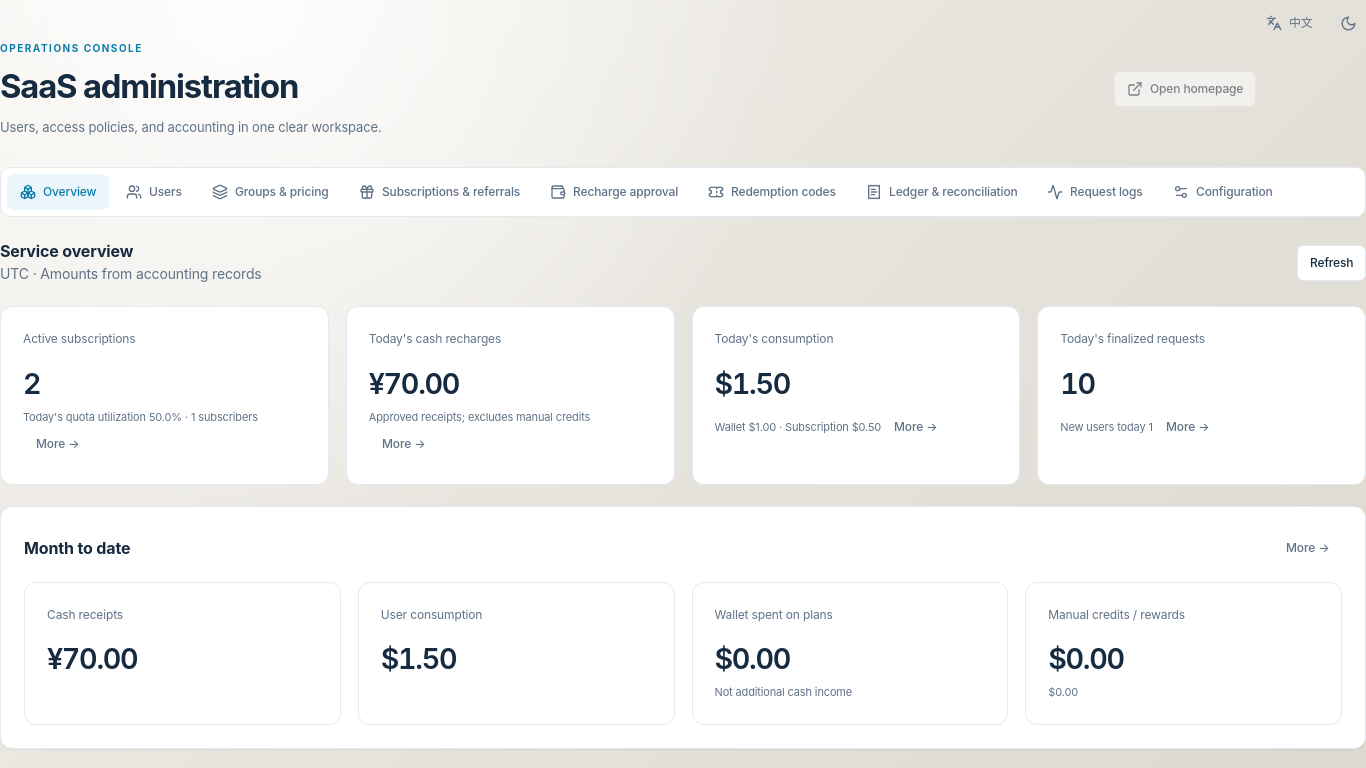
Test: SaaS administrator › opens subscription management for the selected user
What coordinates should you click on to do the following:
click the button "Users"
I would click on:
 (154, 192)
Its box is top-left (113, 174), bottom-right (195, 210).
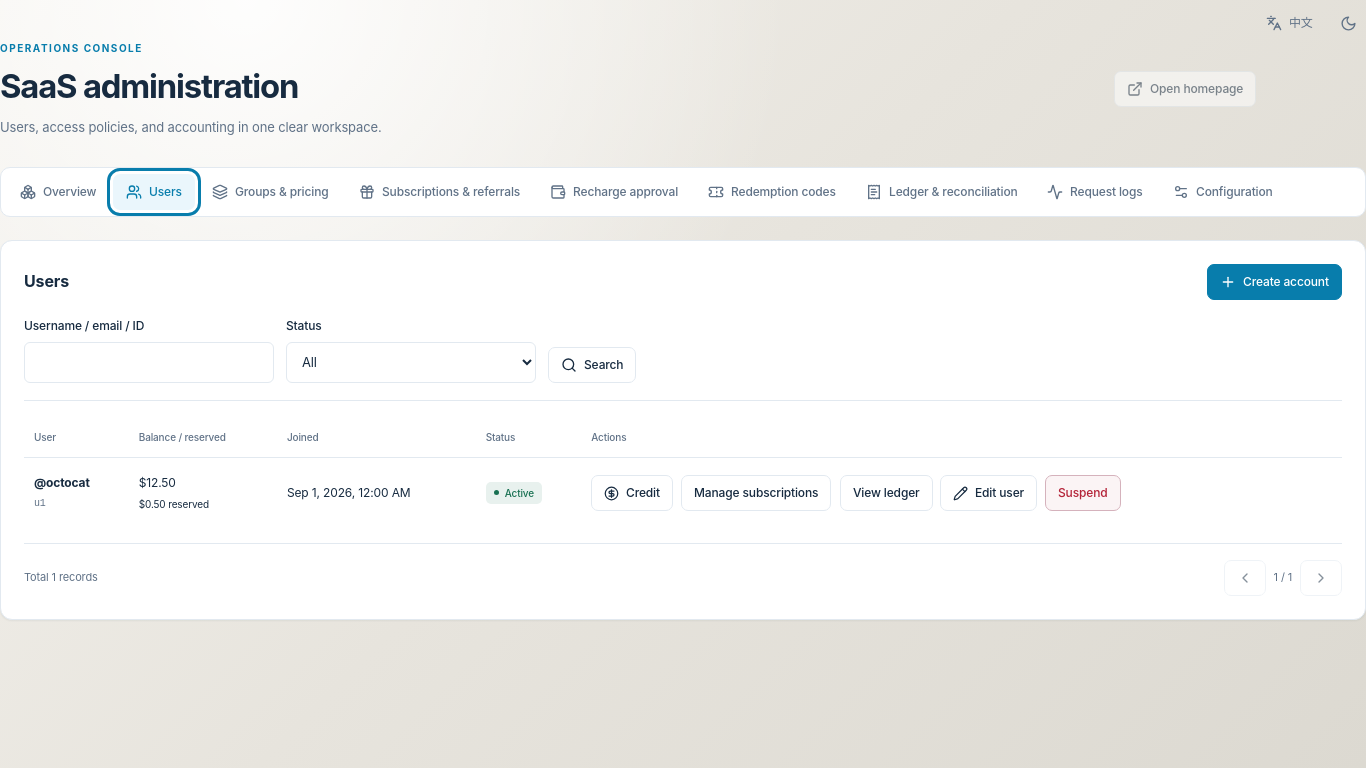
What coordinates should you click on to do the following:
click the button "Manage subscriptions"
I would click on:
 (756, 492)
Its box is top-left (681, 474), bottom-right (832, 510).
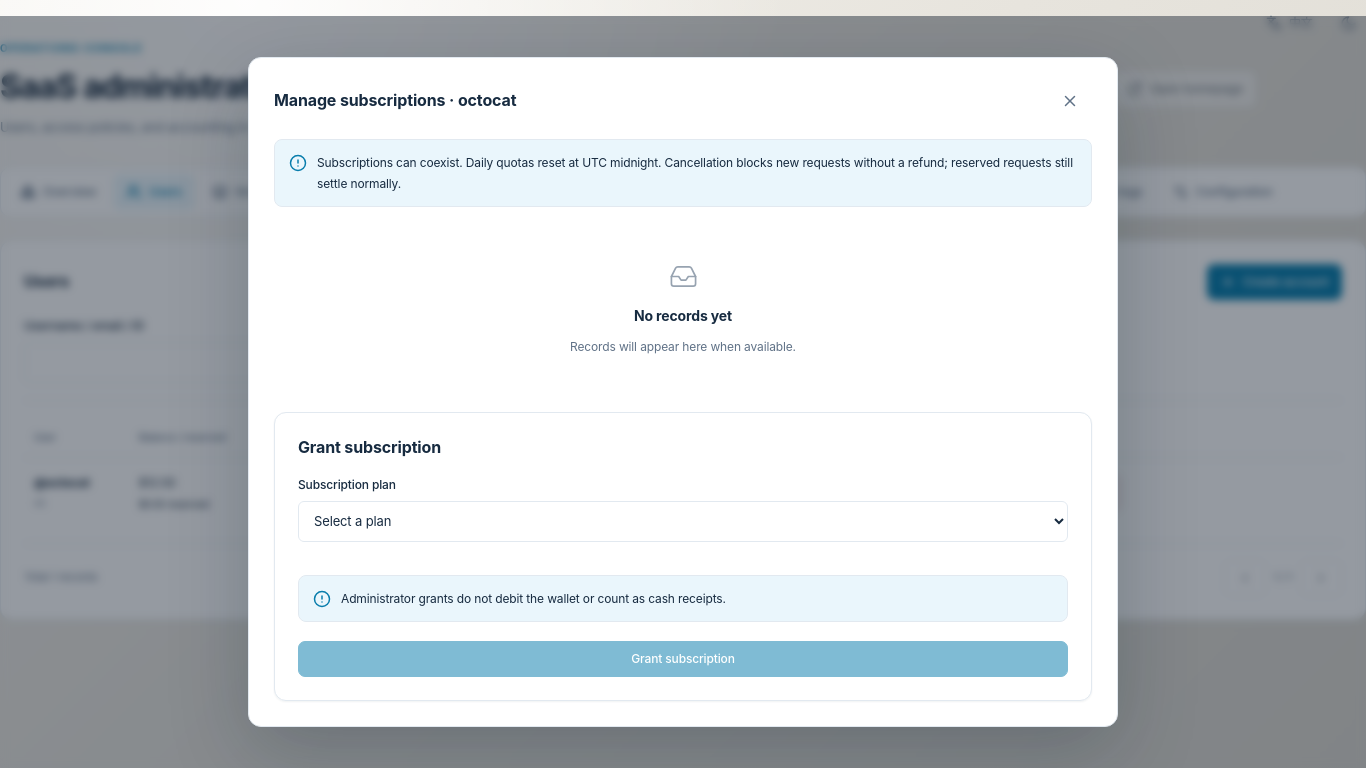
Result: the dialog "Manage subscriptions" is shown at top-left (248, 57), bottom-right (1118, 727)
